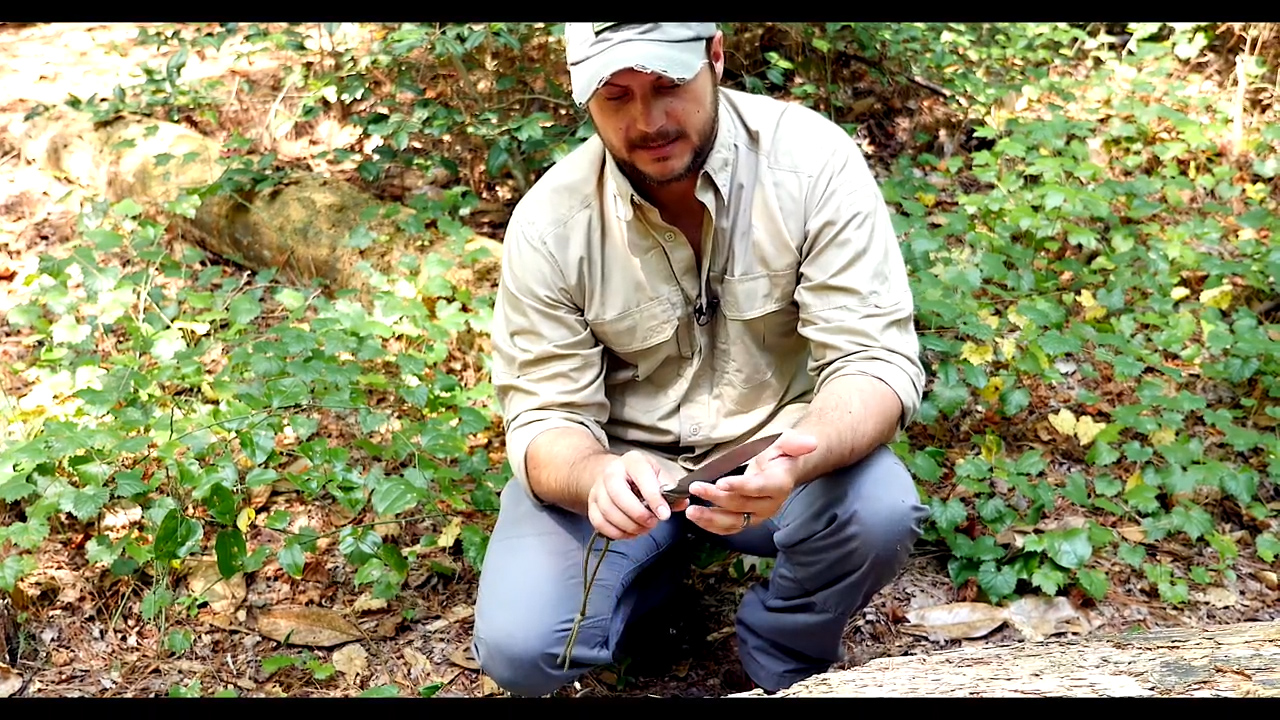knife: (586, 425, 795, 547)
